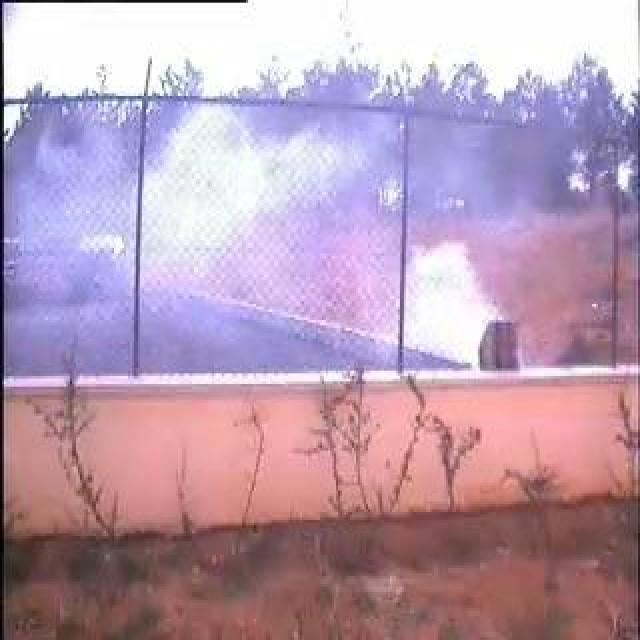Smoke: (136, 103, 500, 353)
